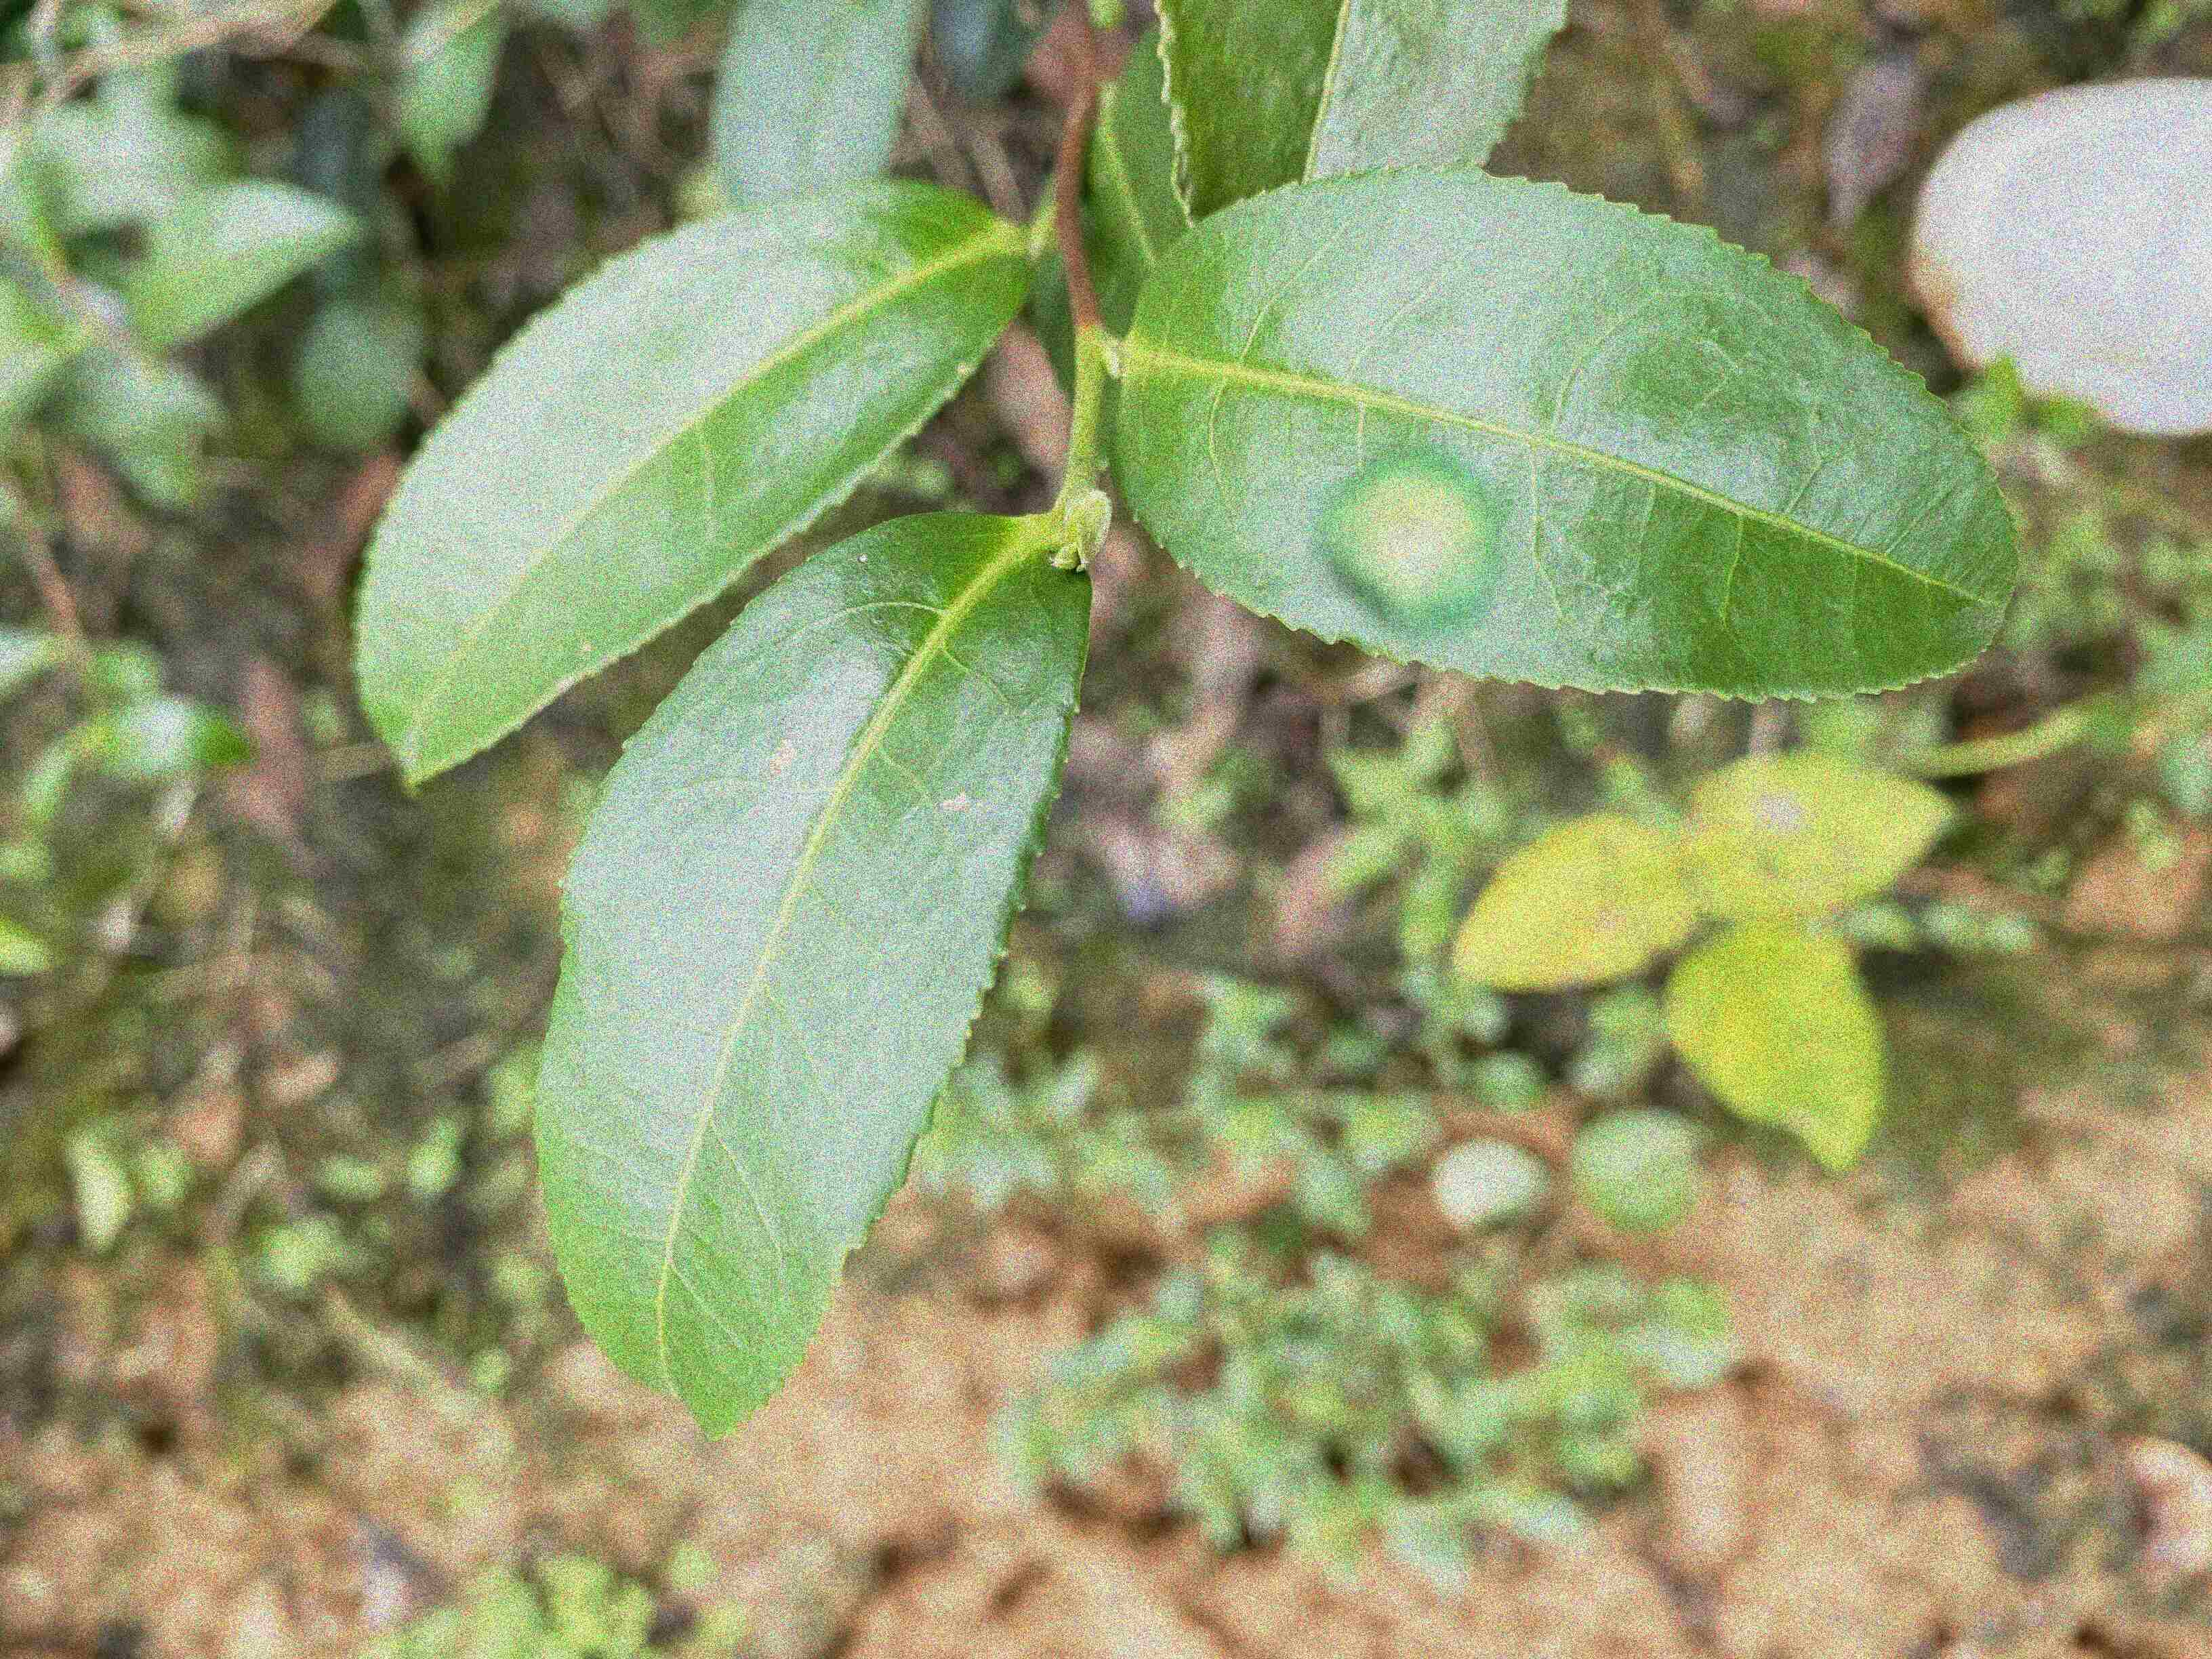chabing_low: (1115, 166, 2026, 702)
tanju_low: (528, 512, 1090, 1443)
